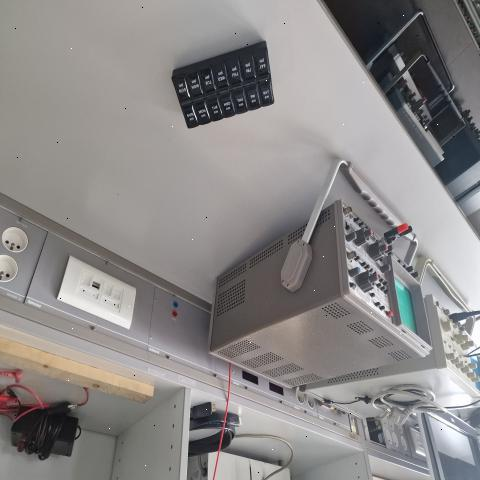PillBox: (125, 21, 314, 150)
